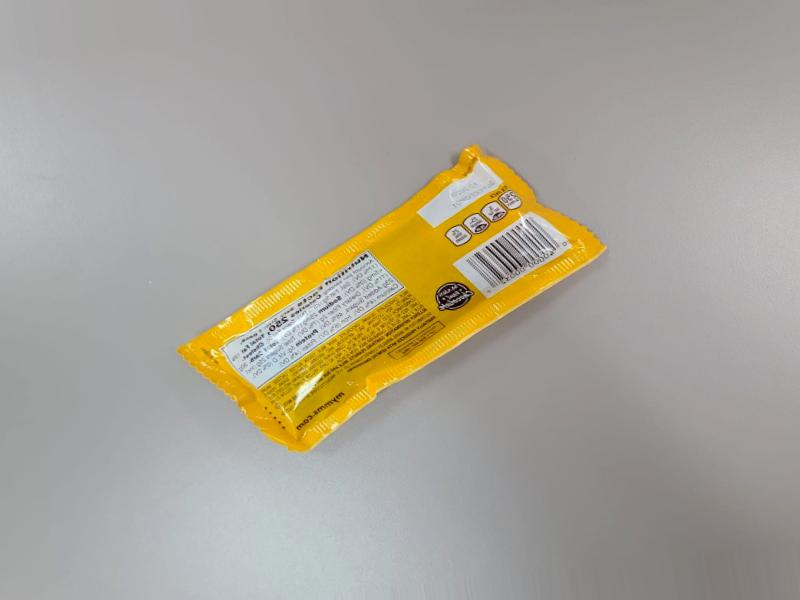m&m: (179, 140, 583, 453)
